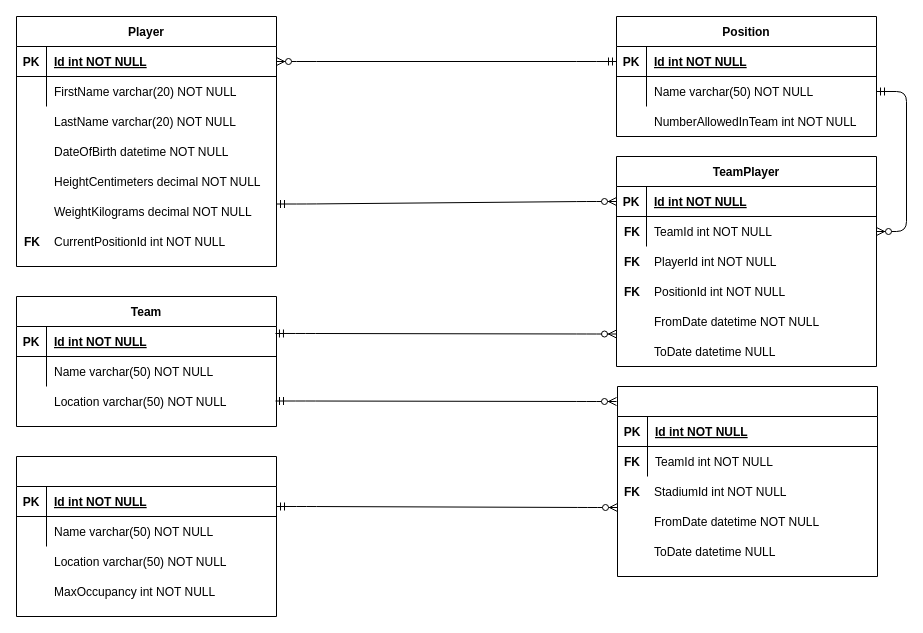
The diagram is 923 pixels wide and 633 high, and some of its shapes have lost their labels. Here are the shapes that lost their labels. From the top down, the box of each, then its label:
(616, 386, 878, 576): TeamStadium
(16, 456, 276, 616): Stadium
